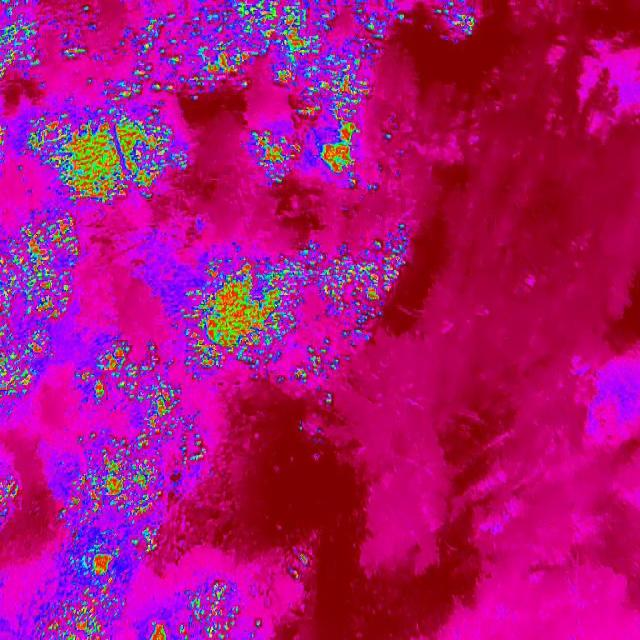fire: (19, 77, 193, 208), (127, 0, 306, 98), (181, 254, 304, 384), (296, 0, 364, 190), (315, 225, 413, 350), (76, 334, 180, 424), (59, 433, 162, 518), (0, 214, 78, 325), (0, 0, 99, 78), (173, 580, 262, 640), (0, 320, 51, 405), (132, 383, 182, 459), (243, 123, 302, 185), (39, 599, 114, 640), (296, 339, 344, 398), (80, 539, 122, 601), (426, 0, 484, 42), (363, 0, 414, 38), (178, 414, 208, 468), (126, 522, 166, 560), (0, 465, 21, 524), (287, 548, 312, 588), (146, 621, 168, 640), (0, 120, 8, 161)
